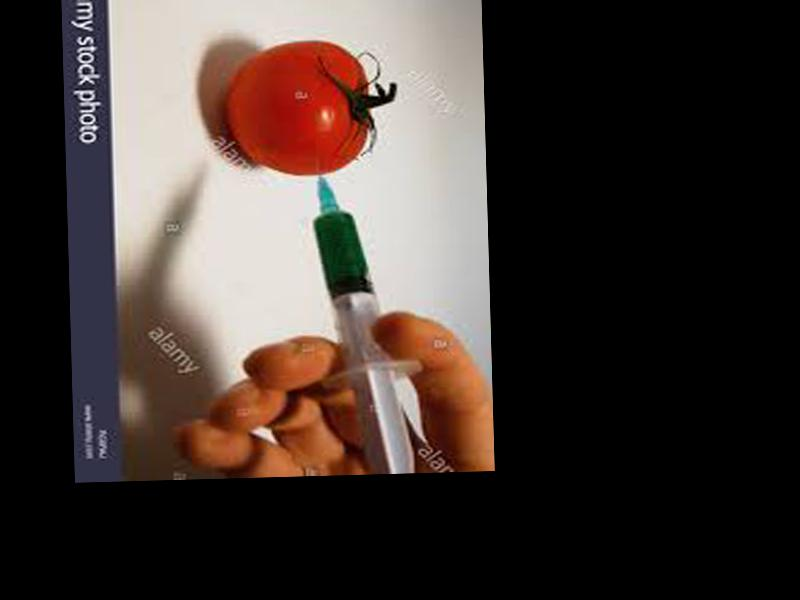Tomato: (225, 41, 370, 177)
